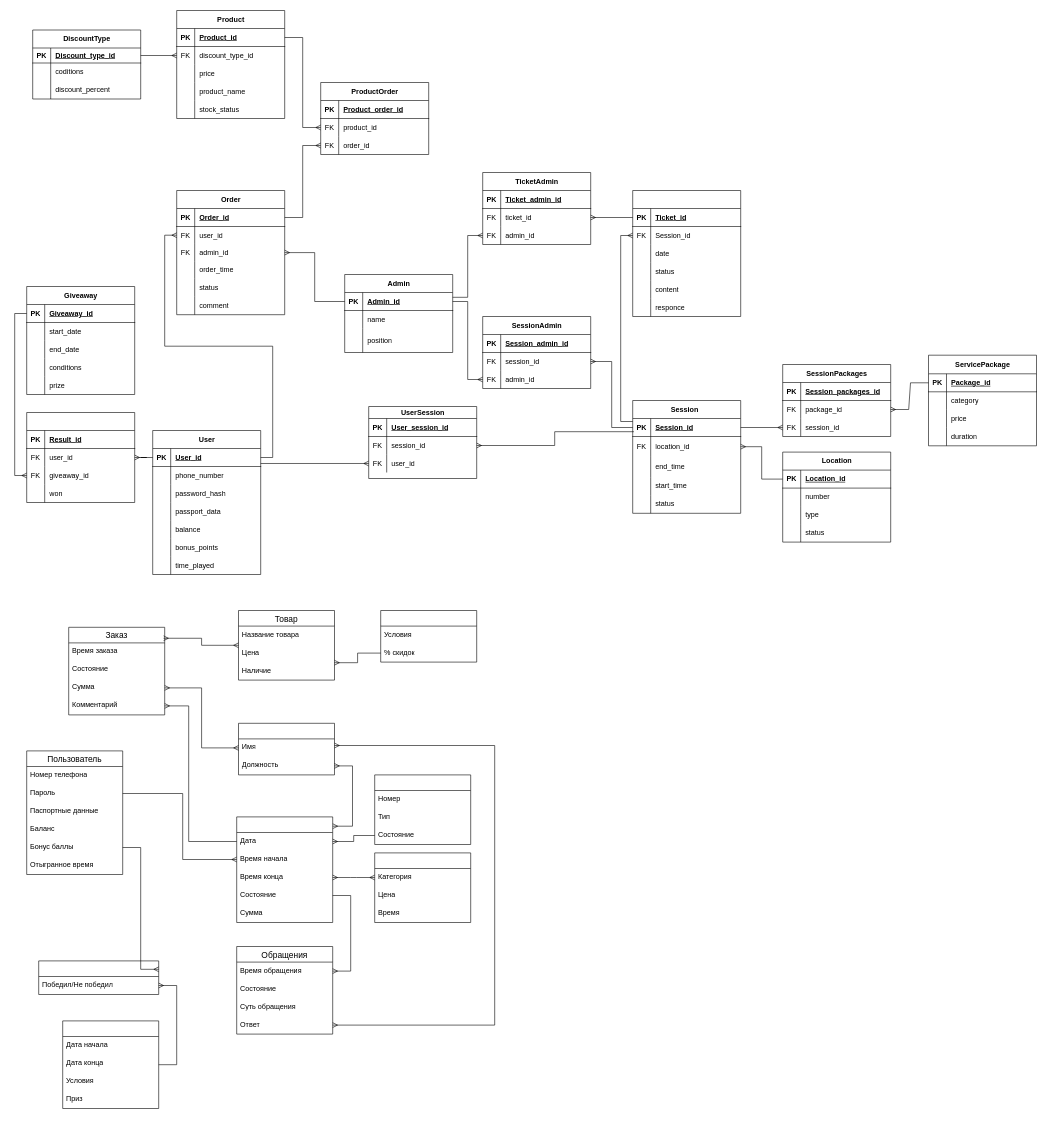
Image size: 1047x1121. Some labels were removed from this diagram. Each missing label, with the box of its shape:
GiveawayResult: (26, 412, 135, 502)
SupportTicket: (632, 190, 741, 316)
Админ: (238, 723, 334, 775)
Место: (374, 774, 471, 844)
Пакеты услуг: (374, 852, 471, 922)
Результаты розыгрыша: (38, 960, 159, 994)
Розыгрыши: (62, 1020, 159, 1108)
Сессия: (236, 816, 333, 922)
Скидки: (380, 610, 477, 662)
